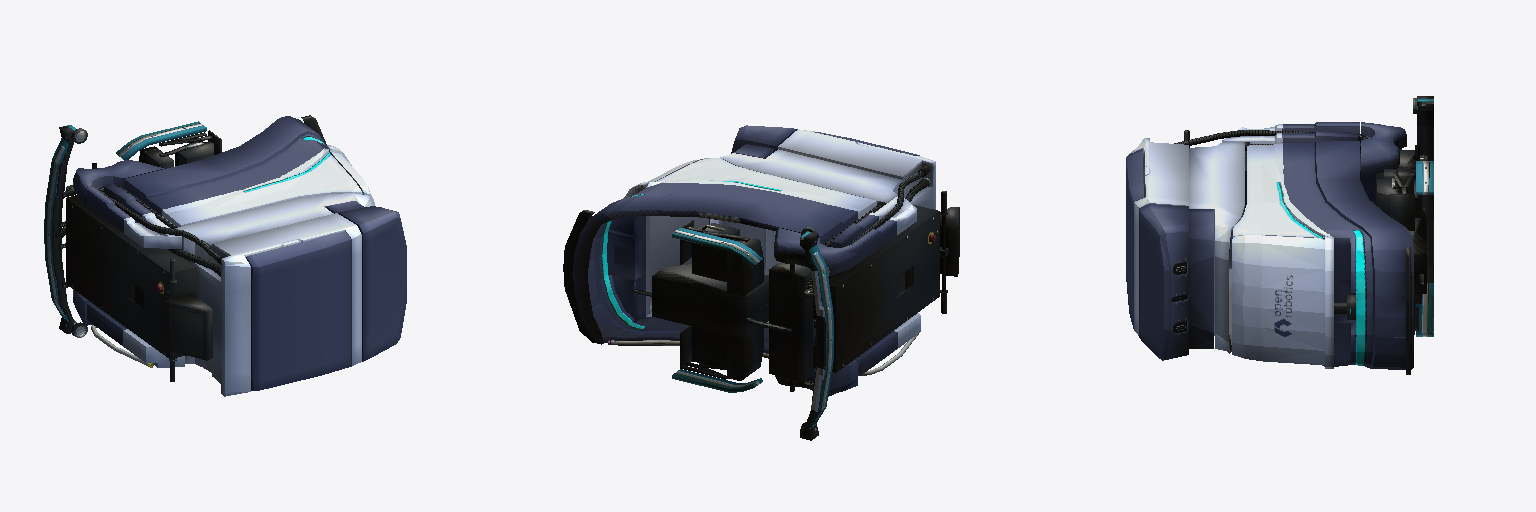
3 views of the same model, side by side, from view 1: azimuth 30°, elevation 25°; view 2: azimuth 150°, elevation 25°; view 3: azimuth 270°, elevation 25° (orthographic).
Visible parts, largest first — view 1: CleanerBotA; view 2: CleanerBotA; view 3: CleanerBotA.
Boxes of the visible parts, x1,y1,x2,y2 form: CleanerBotA: [44, 115, 406, 396]; CleanerBotA: [563, 125, 959, 440]; CleanerBotA: [1126, 96, 1433, 374].
Size of the model in its own units: 1.35 by 0.9514 by 1.28.
1 materials, 1 textured.